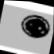correct: (17, 11, 52, 46)
